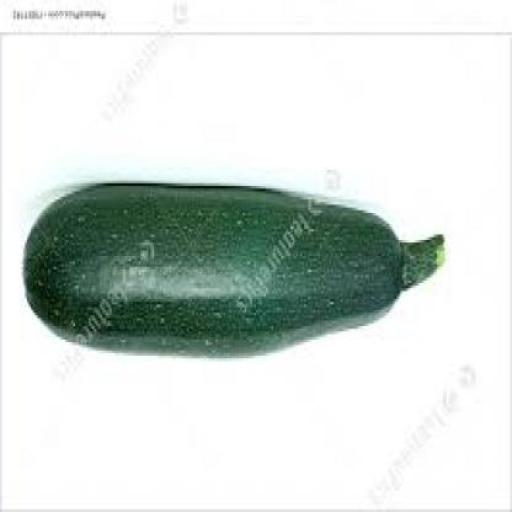biodegradable: (25, 186, 445, 360)
